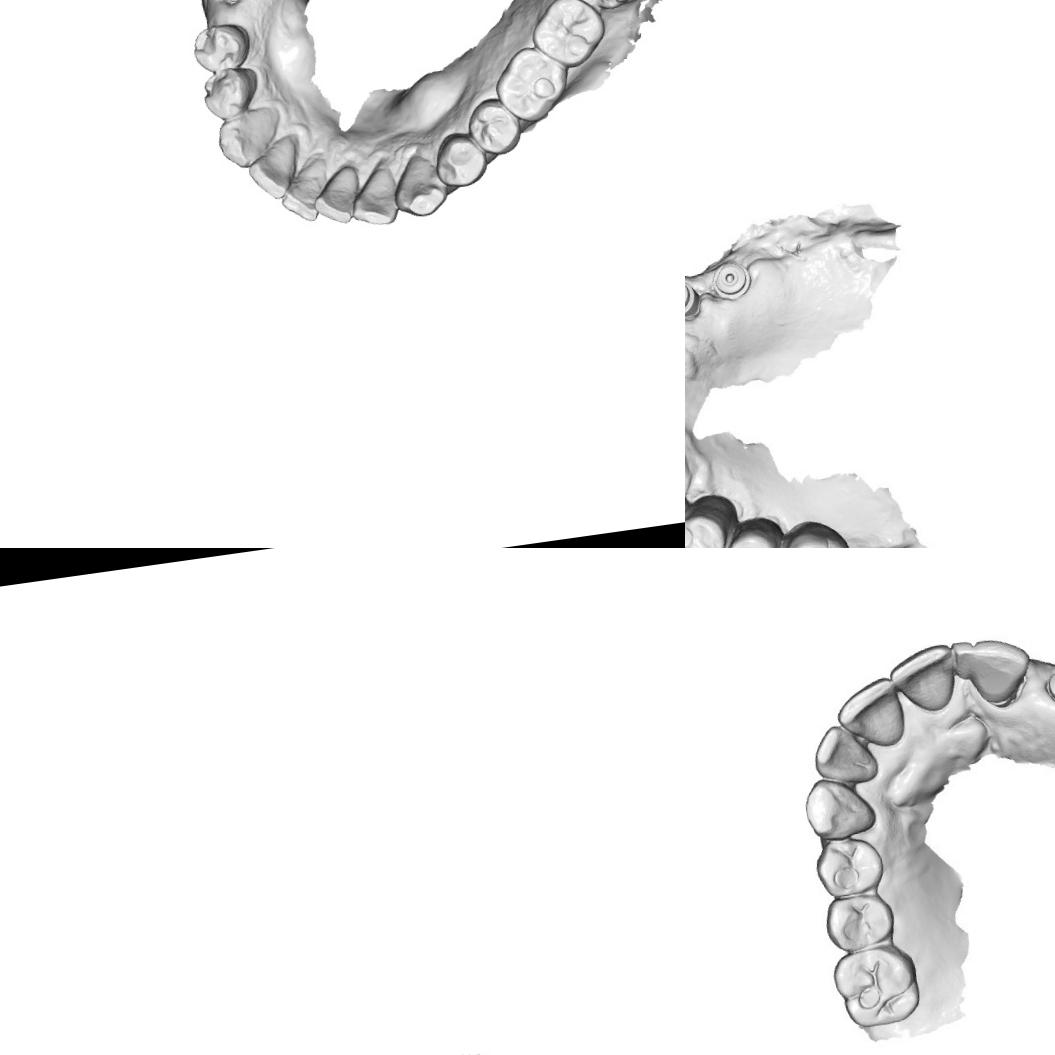canine: (800, 770, 886, 852), (214, 104, 286, 171), (388, 150, 448, 221)
implant: (710, 256, 754, 302)
implant_minus: (1042, 662, 1055, 713), (685, 272, 698, 319)
incisor: (837, 677, 906, 749), (890, 643, 958, 710), (967, 634, 1033, 702), (244, 134, 306, 204), (810, 725, 881, 786), (347, 163, 401, 229), (310, 168, 362, 230), (276, 162, 324, 226)
molar: (828, 942, 925, 1034), (490, 40, 574, 128), (526, 0, 610, 72), (763, 514, 862, 548), (560, 0, 656, 17)
premolar: (812, 835, 889, 904), (821, 889, 899, 957), (187, 18, 254, 78), (198, 63, 264, 122), (430, 128, 490, 190), (464, 95, 523, 158), (685, 504, 735, 548), (706, 524, 787, 548)
